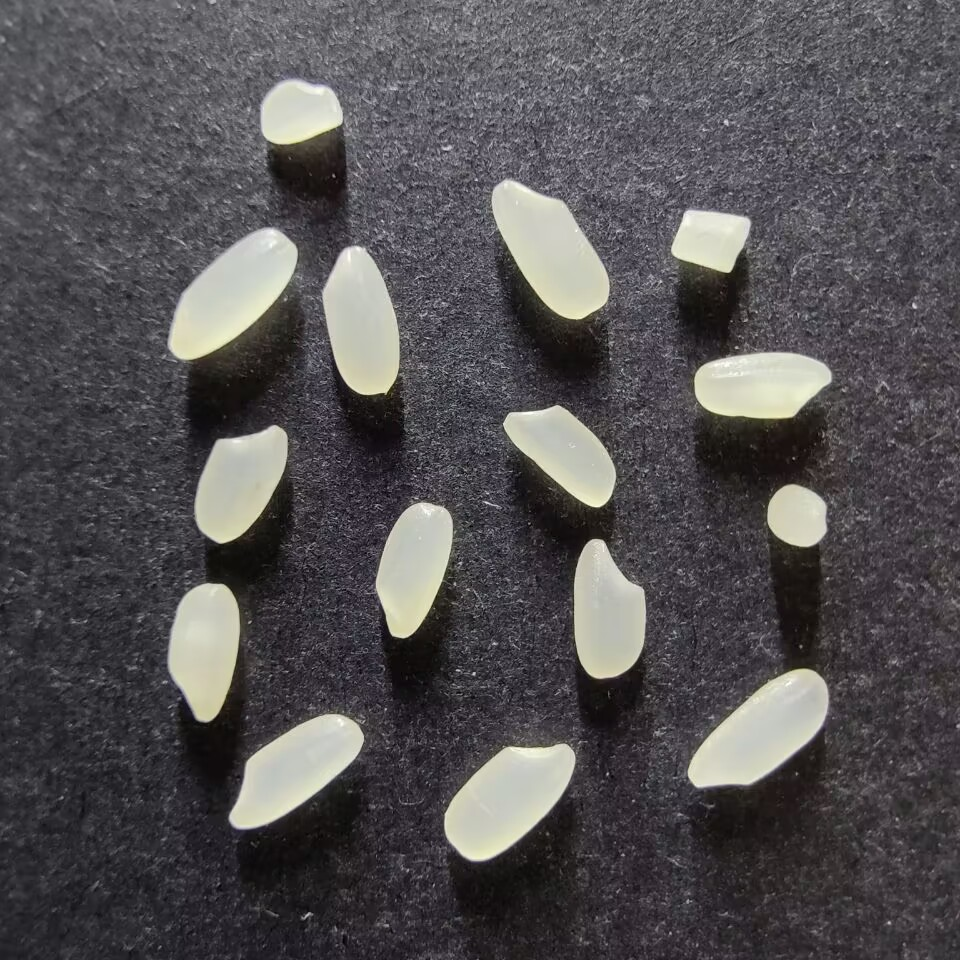broken: (259, 78, 341, 145), (671, 208, 753, 274), (765, 483, 828, 548)
rice: (687, 667, 830, 790), (167, 227, 298, 361), (490, 179, 609, 320), (228, 711, 365, 832), (442, 741, 575, 862), (320, 245, 401, 396), (502, 404, 616, 508), (193, 423, 289, 543), (166, 581, 241, 723), (374, 502, 452, 638), (572, 538, 647, 679), (693, 351, 833, 420)
